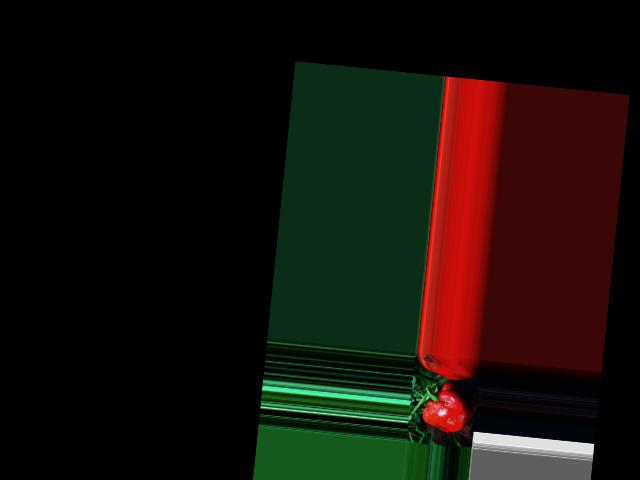bell_pepper: (416, 378, 479, 432)
